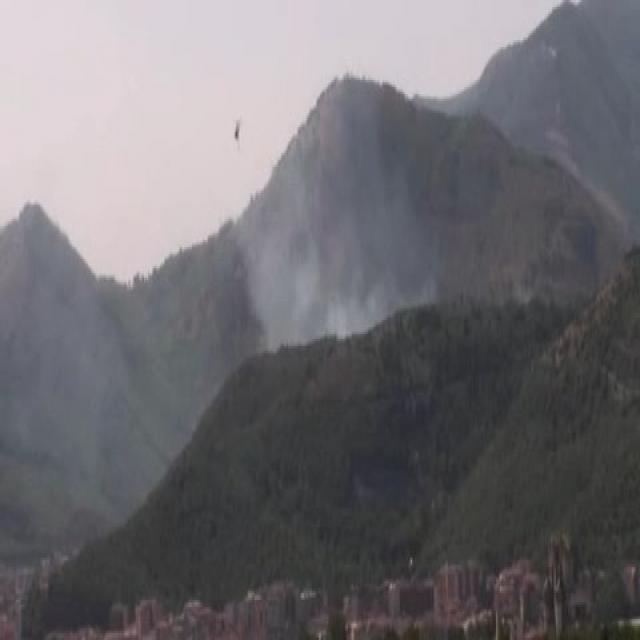smoke: (250, 149, 426, 355)
